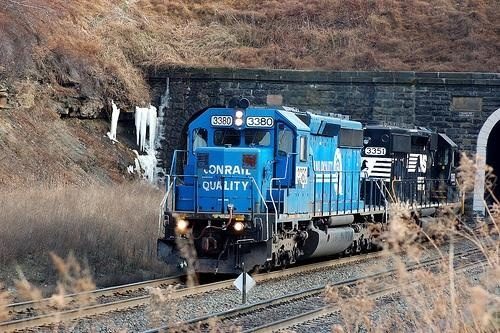train: (157, 105, 466, 277)
